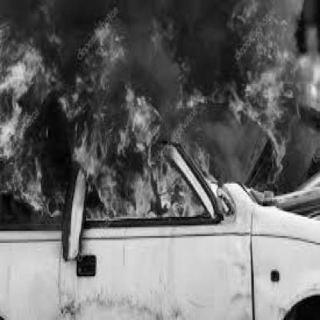Fire: (0, 0, 316, 236)
